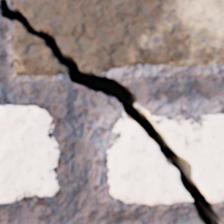brick: (0, 105, 59, 202)
broken_brick: (14, 0, 223, 72), (107, 114, 191, 204), (147, 112, 223, 202), (13, 21, 66, 74)
crack: (0, 0, 223, 223)
